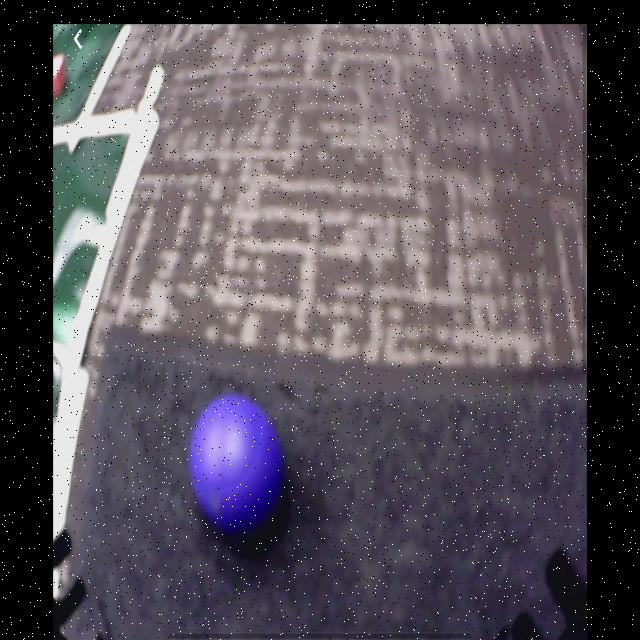ball: (188, 397, 285, 534)
